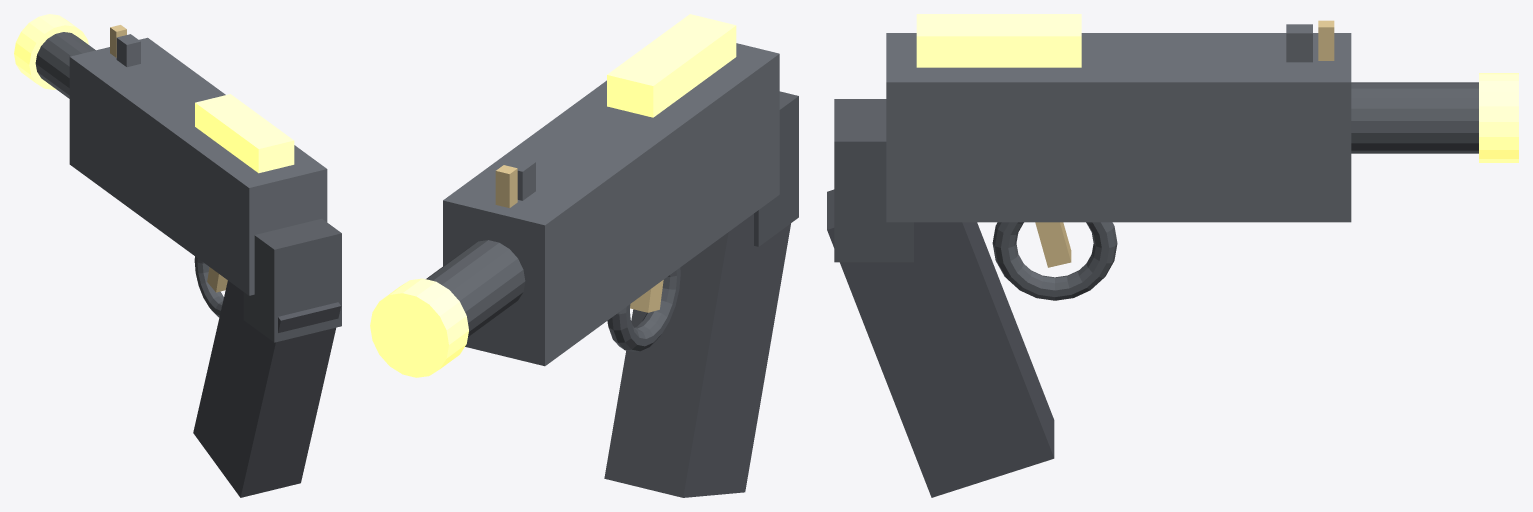
Rendered from gun.glb.
The picture shows the model from 3 angles, left to right: view 1: azimuth 30°, elevation 25°; view 2: azimuth 150°, elevation 25°; view 3: azimuth 270°, elevation 25°; orthographic projection. The views are drawn at different scales.
Parts seen in each view (by area): view 1: p00, p05, p10, p04, p02, p01, p06, p08; view 2: p00, p05, p04, p02, p01, p10, p06, p09, p08, p07; view 3: p00, p05, p10, p01, p04, p06, p02, p07, p08.
Boxes of the visible parts, x1,y1,x2,y2 form: p00: [69, 37, 327, 295]; p05: [193, 280, 341, 497]; p10: [243, 218, 341, 342]; p04: [195, 94, 294, 173]; p02: [14, 14, 88, 89]; p01: [35, 32, 95, 98]; p06: [194, 256, 223, 317]; p08: [116, 34, 140, 67]; p00: [443, 43, 779, 366]; p05: [604, 213, 790, 497]; p04: [607, 14, 736, 117]; p02: [370, 278, 468, 377]; p01: [426, 240, 525, 336]; p10: [754, 91, 798, 246]; p06: [607, 268, 680, 351]; p09: [495, 165, 517, 207]; p08: [507, 157, 535, 200]; p07: [630, 280, 663, 312]; p00: [886, 33, 1351, 222]; p05: [827, 189, 1054, 497]; p10: [834, 99, 913, 262]; p01: [1351, 82, 1478, 153]; p04: [916, 14, 1081, 67]; p06: [992, 222, 1117, 300]; p02: [1479, 73, 1518, 162]; p07: [1035, 222, 1071, 267]; p08: [1286, 24, 1312, 62].
Bounding box in the file's own units: 0.044 × 0.1888 × 0.2603.
